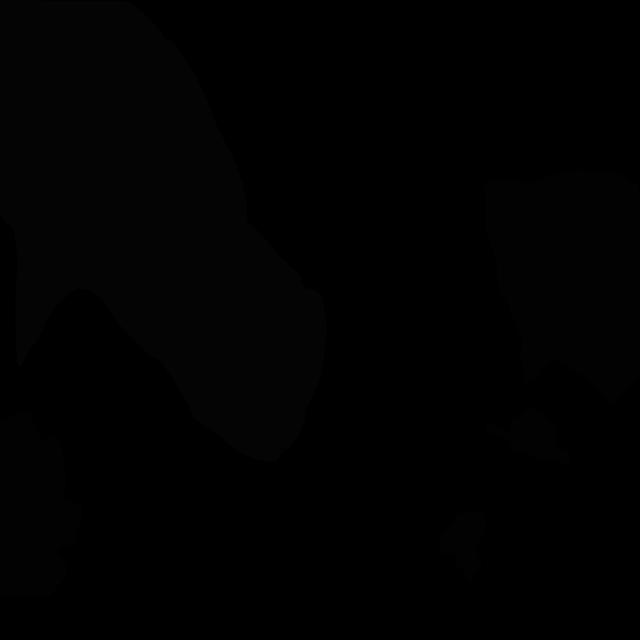cardboard: (481, 169, 640, 406), (0, 412, 82, 598), (486, 406, 570, 464), (438, 512, 486, 581)
soft_plastic: (0, 0, 327, 462)
